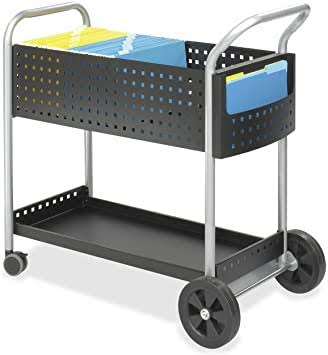Carts: (1, 1, 328, 350)
